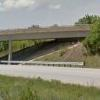Bridge: (2, 18, 85, 51)
